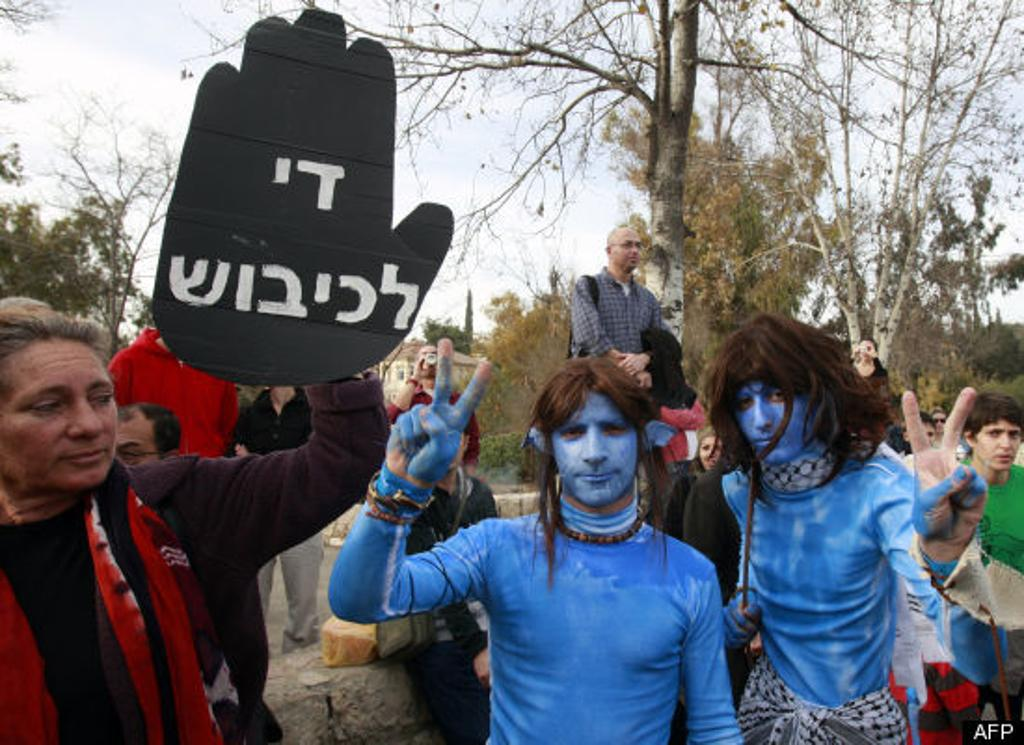face: (2, 352, 119, 487), (554, 399, 638, 507), (731, 372, 822, 466), (104, 422, 157, 495), (978, 426, 1021, 472), (700, 438, 728, 473), (613, 235, 642, 268), (421, 350, 442, 376), (913, 424, 934, 450), (859, 344, 875, 362), (933, 415, 947, 433)
